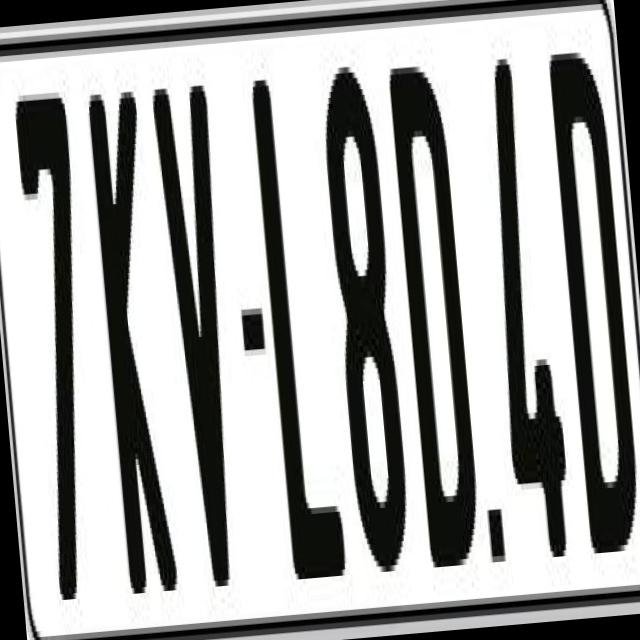4: (474, 50, 580, 577)
7: (10, 80, 105, 594)
8: (314, 53, 414, 596)
D: (384, 47, 489, 586), (544, 51, 636, 571)
K: (85, 80, 179, 588)
L: (248, 59, 344, 568)
V: (147, 79, 250, 606)
